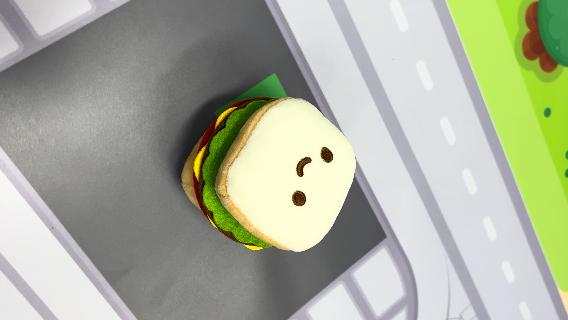sandwich: (180, 93, 358, 253)
